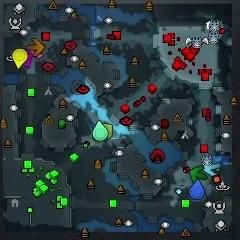p1: (188, 179, 206, 201)
p2: (92, 120, 109, 143)
p3: (21, 47, 33, 69)
p4: (12, 48, 28, 71)
x1: (31, 50, 45, 59)
x2: (104, 121, 115, 140)
x3: (202, 162, 223, 178)
x4: (190, 164, 208, 183)
x5: (26, 38, 45, 57)
